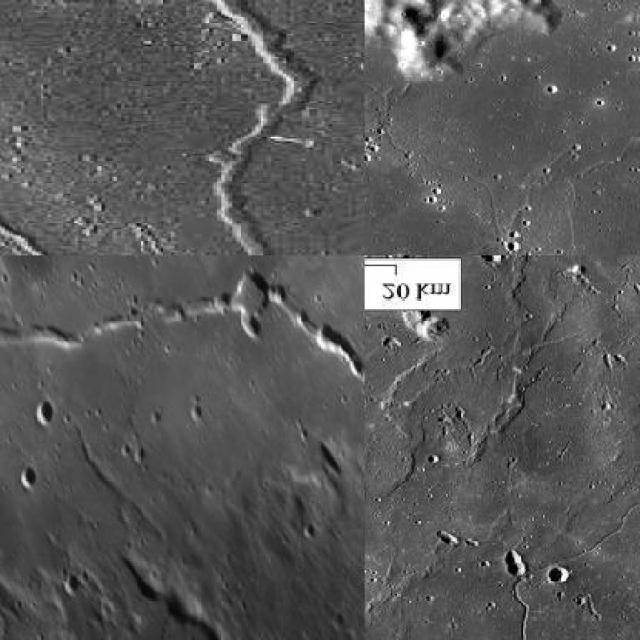rille: (0, 269, 363, 580), (377, 296, 638, 638), (15, 0, 328, 254), (0, 95, 363, 254), (364, 0, 502, 254)
